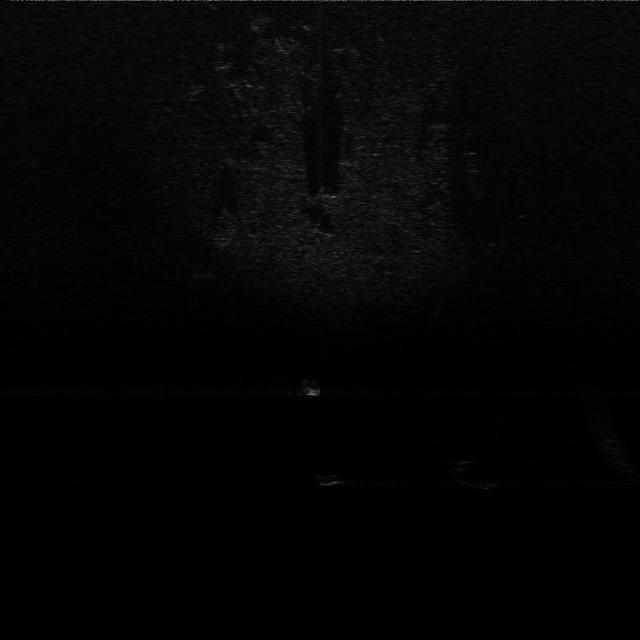cube: (312, 464, 361, 490)
square cage: (287, 372, 327, 400)
tyre: (446, 451, 506, 494)
